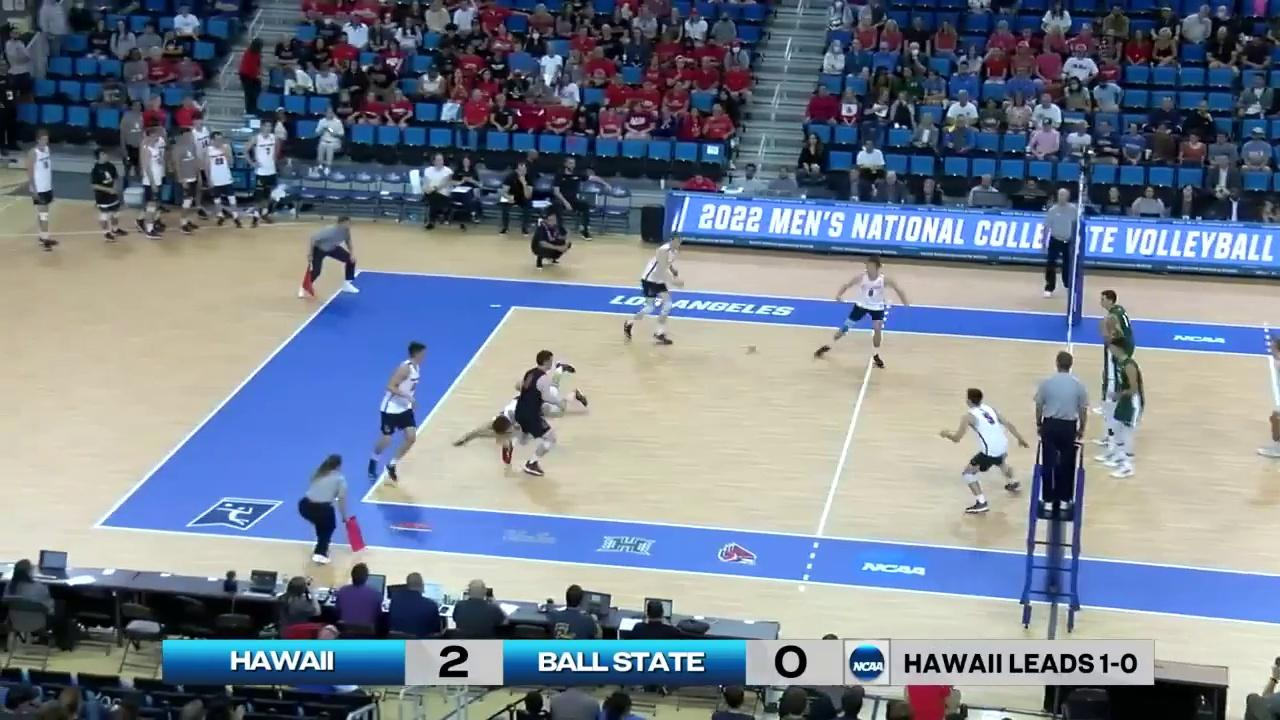player: (452, 364, 589, 446), (939, 388, 1022, 515), (814, 257, 903, 370), (368, 343, 427, 485), (622, 232, 691, 345), (498, 351, 558, 475), (1092, 285, 1133, 419), (1095, 321, 1133, 462), (1103, 339, 1140, 480)
refree: (1034, 352, 1088, 515), (297, 456, 359, 564), (302, 213, 361, 299), (1041, 187, 1081, 299)
